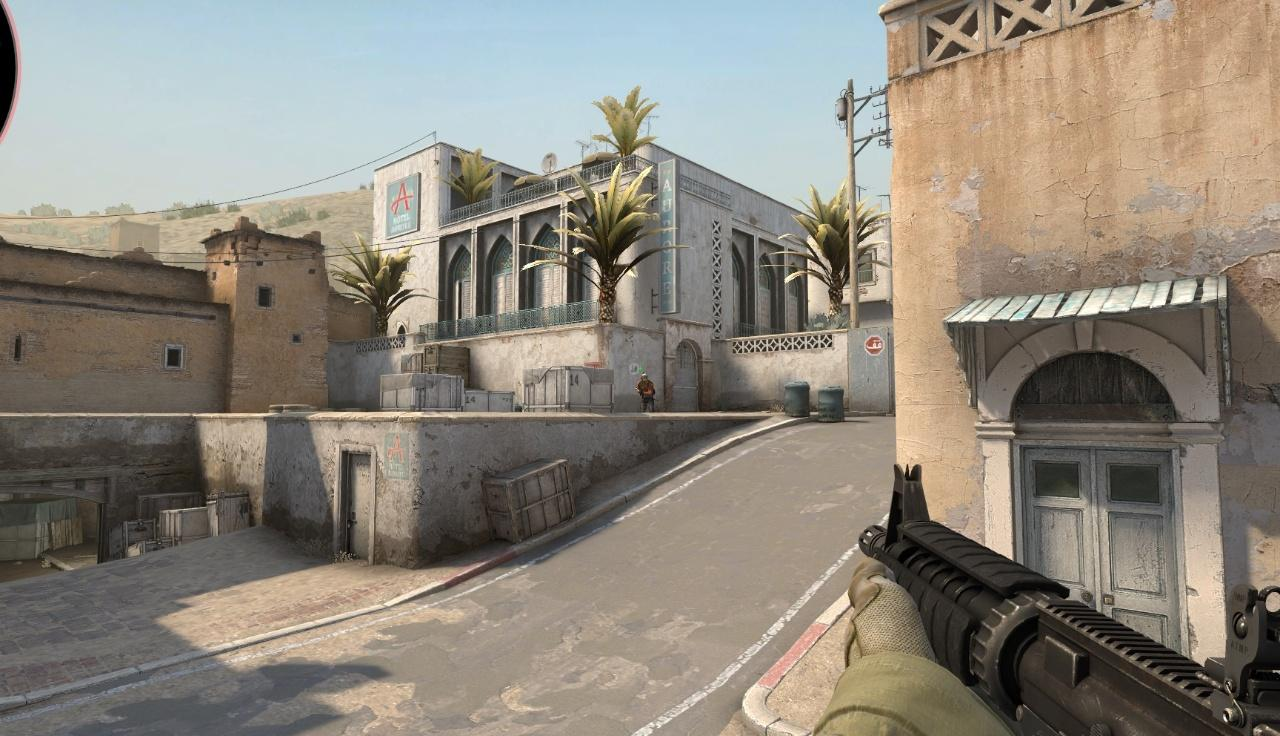rifle: (858, 462, 1278, 736)
tt: (636, 373, 655, 412)
tthead: (641, 373, 648, 382)
